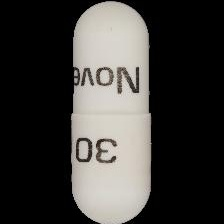67877-147: (0, 0, 224, 224)
